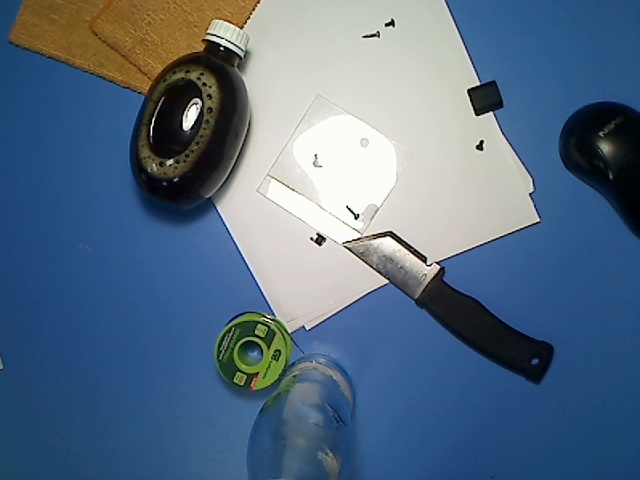plast_bottle: (123, 11, 276, 212)
